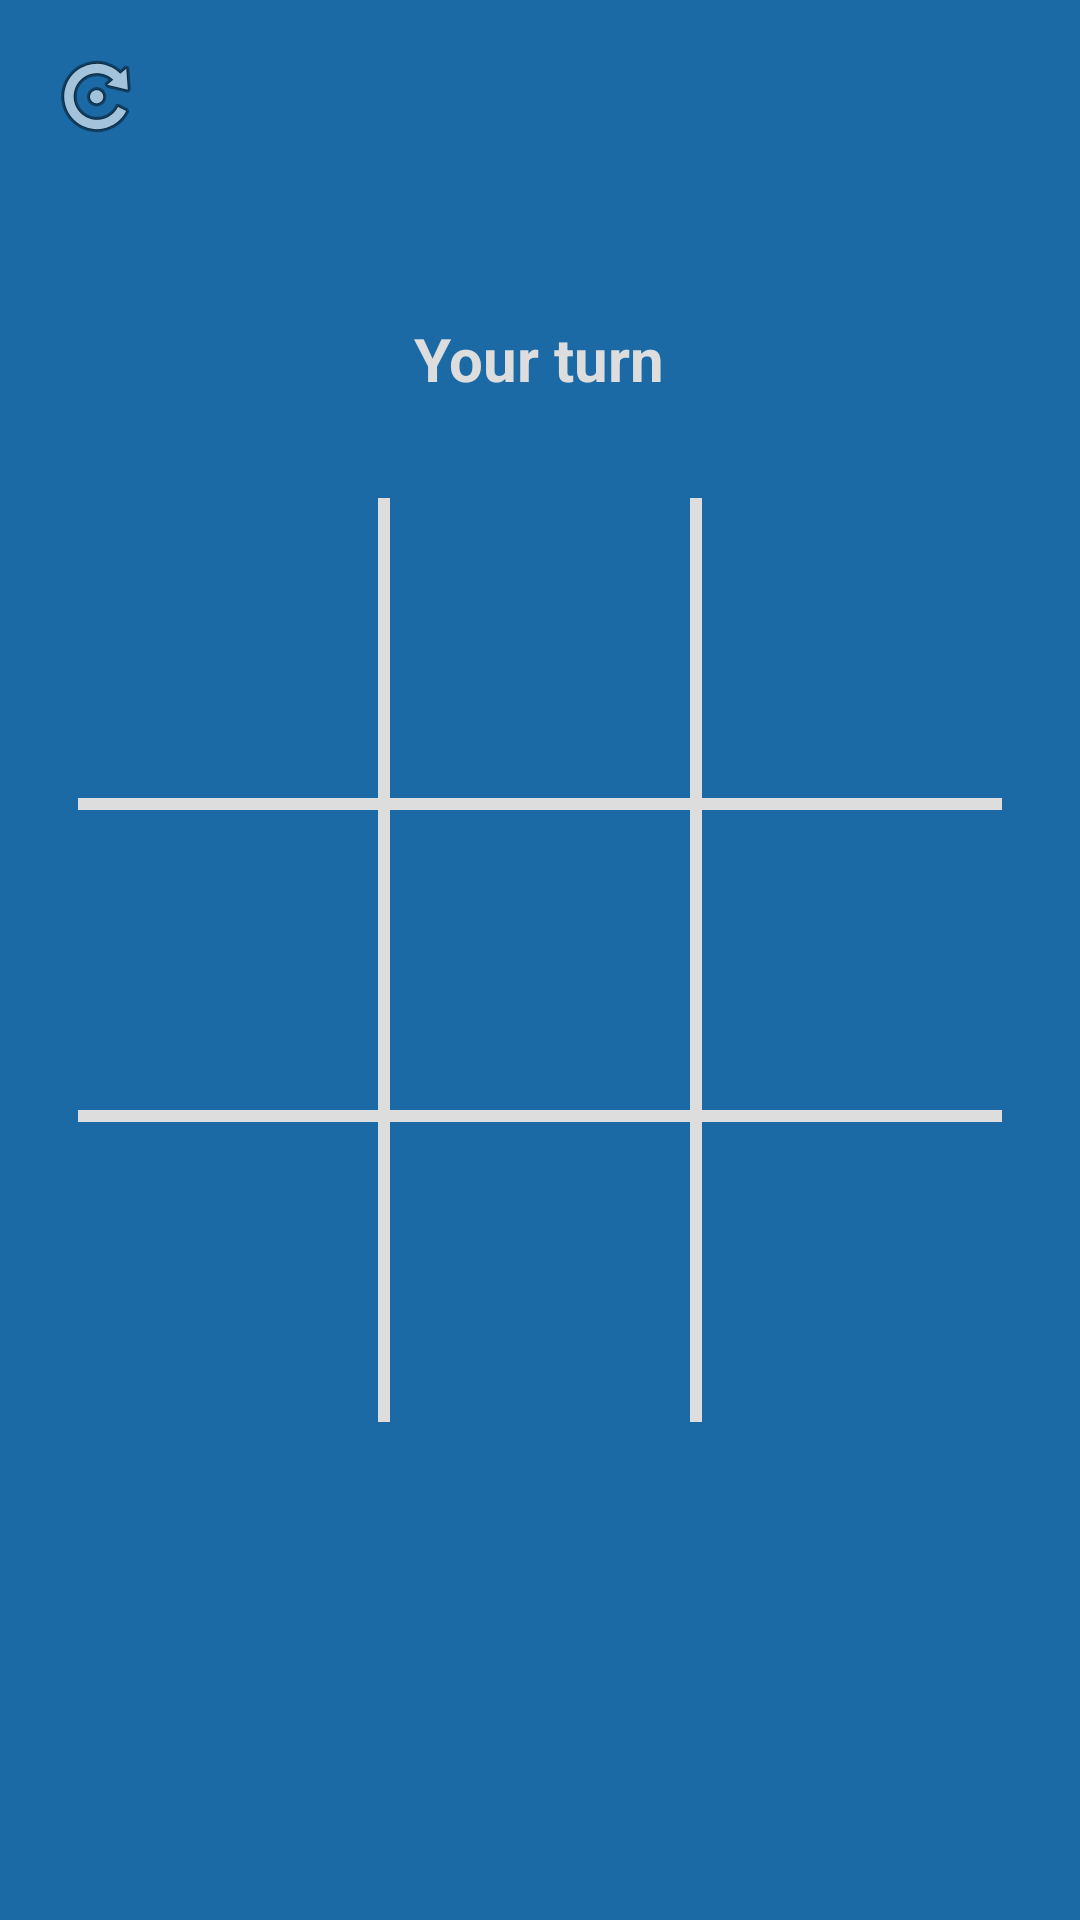

Point at icon controls on the screen. Image size 1080 × 1920, points as [x,y].
rotate: [96,96]
